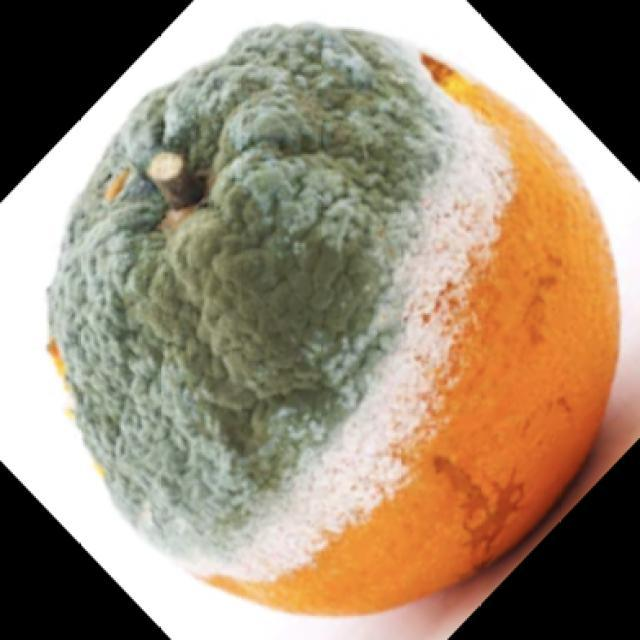sangat-busuk: (48, 25, 617, 614)
